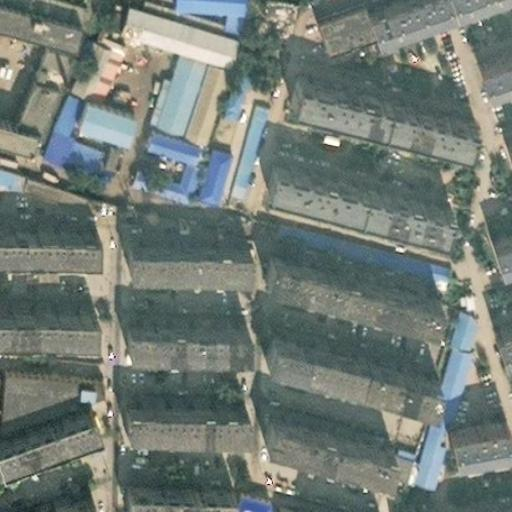building: (279, 64, 465, 139), (258, 254, 435, 330), (254, 155, 436, 228), (253, 330, 425, 404), (404, 304, 467, 475), (298, 224, 448, 283), (255, 406, 387, 468), (0, 416, 99, 479), (113, 0, 231, 48), (216, 87, 261, 202), (139, 35, 197, 121), (0, 364, 97, 415), (33, 87, 97, 163), (58, 20, 117, 101), (5, 34, 58, 112), (175, 41, 222, 128), (115, 235, 237, 266), (113, 318, 235, 348), (199, 51, 242, 136), (124, 144, 192, 196), (113, 399, 237, 427), (8, 165, 90, 203), (117, 480, 223, 507), (66, 94, 124, 138), (184, 131, 225, 193), (440, 411, 505, 447), (305, 0, 362, 36), (137, 113, 195, 148), (415, 494, 512, 512), (469, 30, 512, 69), (481, 217, 512, 256), (20, 496, 90, 512), (230, 478, 269, 506), (488, 308, 512, 343), (100, 144, 123, 173), (266, 494, 303, 512), (494, 124, 512, 159), (257, 0, 286, 8)
